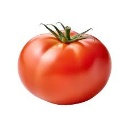tomato: (18, 30, 113, 105)
